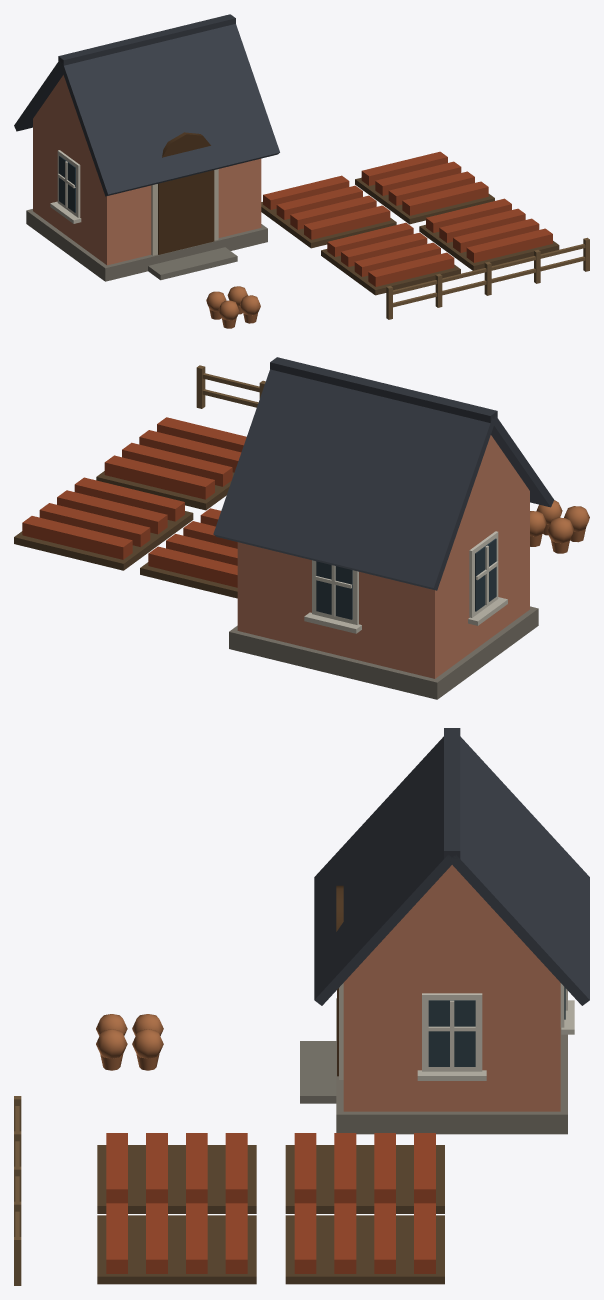
File: procedural_spice_garden@4.glb
The picture shows the model from 3 angles, top to bottom: view 1: azimuth 30°, elevation 25°; view 2: azimuth 150°, elevation 25°; view 3: azimuth 270°, elevation 25°; orthographic projection. The views are drawn at different scales.
Visible parts, largest first — view 1: part_0; view 2: part_0; view 3: part_0.
Part boxes in pixels (box(x1,y1,x2,y2)): part_0: box(14, 14, 589, 328); part_0: box(14, 357, 589, 699); part_0: box(14, 728, 589, 1285).
Size of the model in its own units: 8.86 by 4.37 by 7.95.
